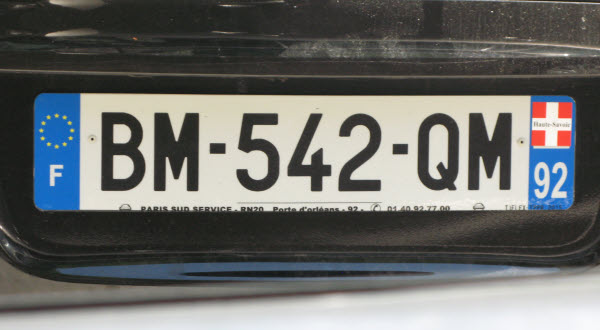license_plate: (31, 89, 577, 210)
